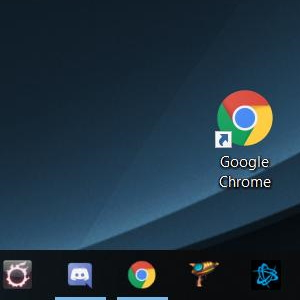chrome: (214, 90, 273, 148)
